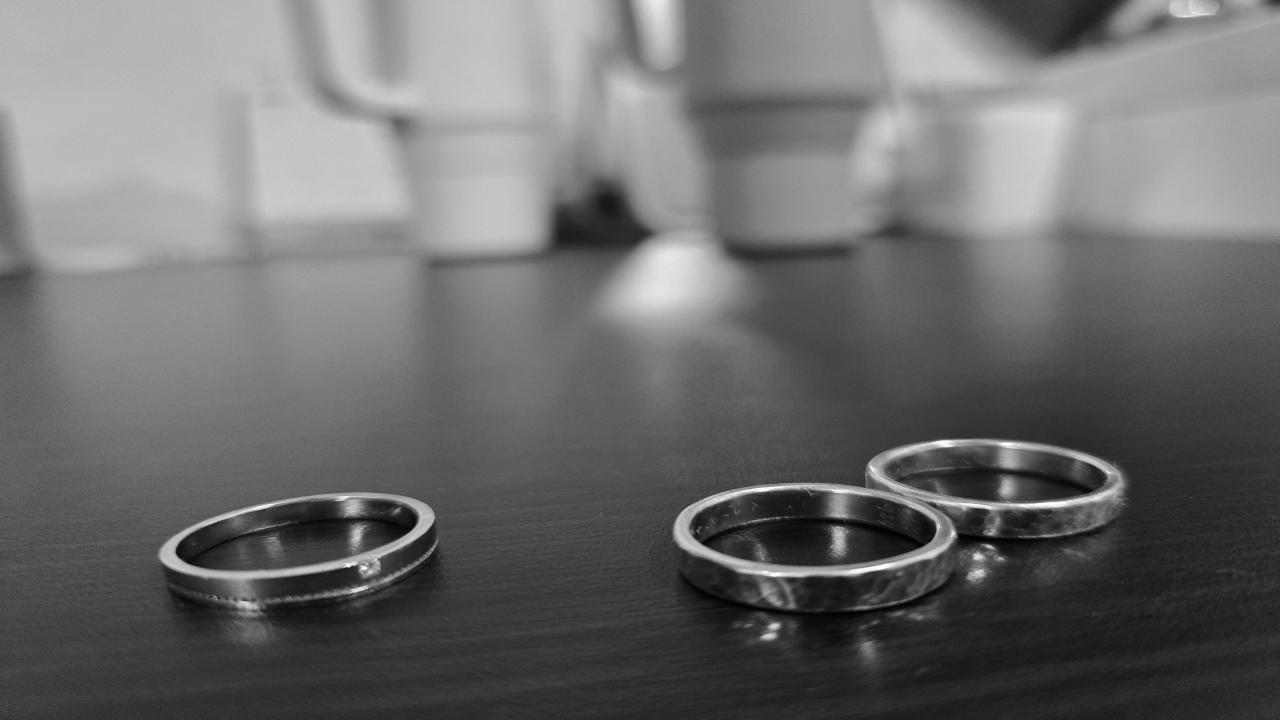ring: (672, 482, 960, 614), (155, 489, 448, 609), (859, 437, 1130, 540)
